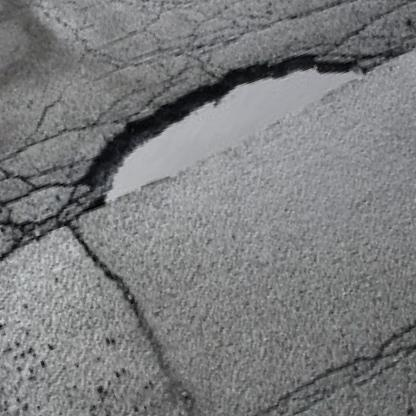pothole: (62, 26, 385, 214)
